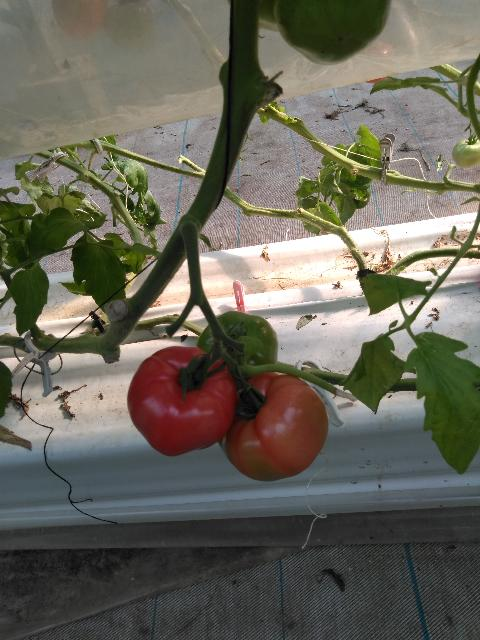b_fully_ripened: (126, 345, 240, 456)
b_green: (275, 0, 392, 65), (196, 311, 278, 388), (227, 0, 280, 32), (452, 139, 480, 169)
b_half_ripened: (219, 372, 329, 482)
